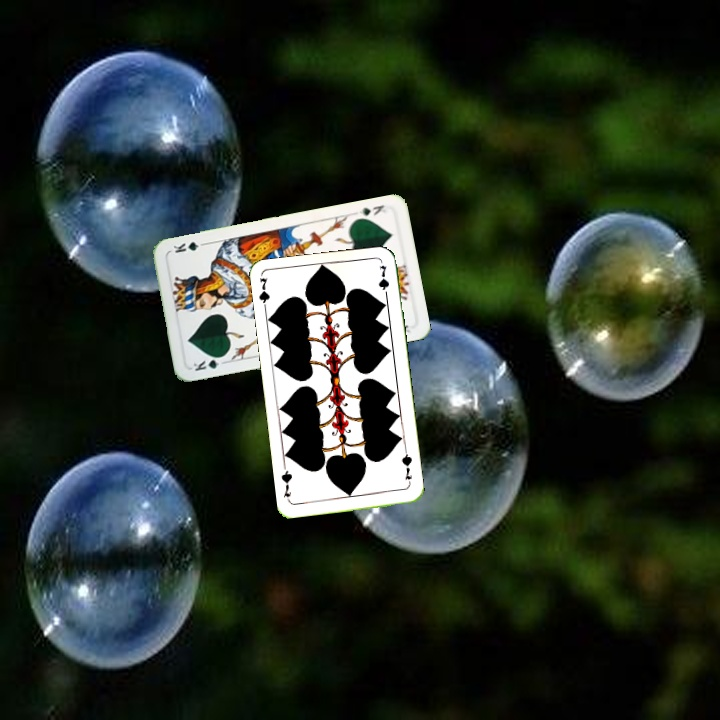G7: (255, 274, 272, 315), (397, 447, 415, 482)
GK: (189, 352, 227, 374), (354, 201, 388, 219)
